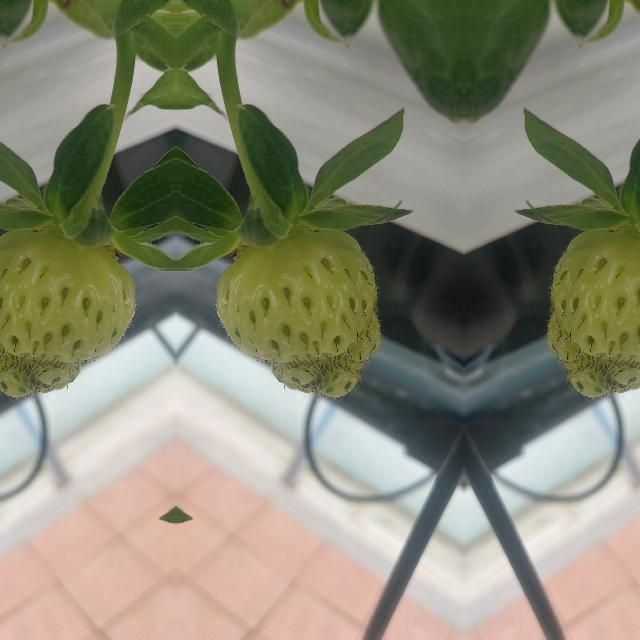Health_25: (215, 226, 379, 396), (0, 226, 135, 396), (547, 226, 640, 396)
